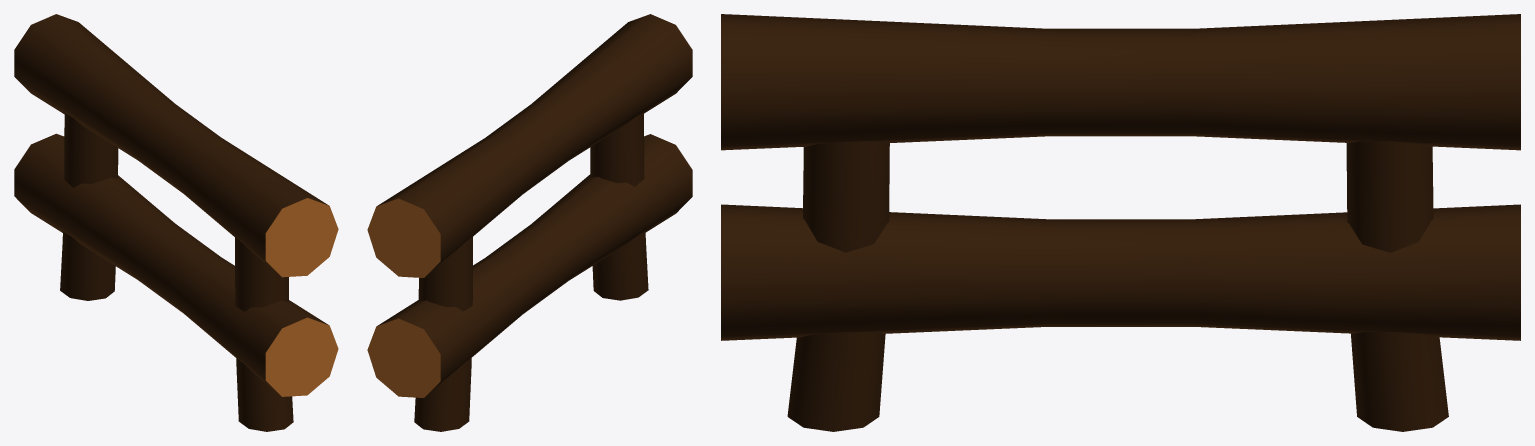
The model's file is Gate.FBX.
The picture shows the model from 3 angles, left to right: view 1: azimuth 30°, elevation 25°; view 2: azimuth 150°, elevation 25°; view 3: azimuth 270°, elevation 25°; orthographic projection. The views are drawn at different scales.
Visible parts, largest first — view 1: Gate; view 2: Gate; view 3: Gate.
Part boxes in pixels (bbox=[...]): Gate: bbox=[14, 14, 338, 431]; Gate: bbox=[367, 14, 692, 431]; Gate: bbox=[721, 14, 1520, 431].
Size of the model in its own units: 31.39 by 101 by 187.
